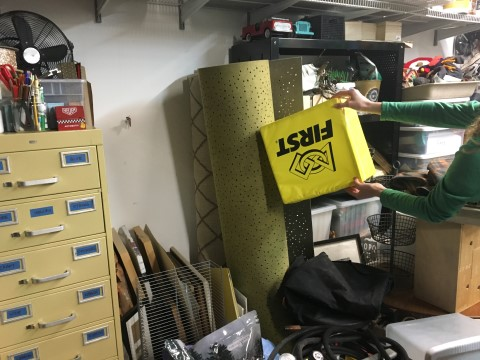cube: (260, 98, 377, 204)
